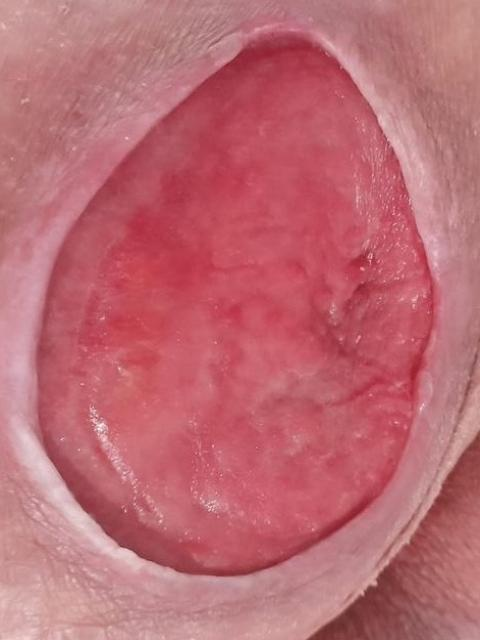wound: (32, 28, 442, 581)
